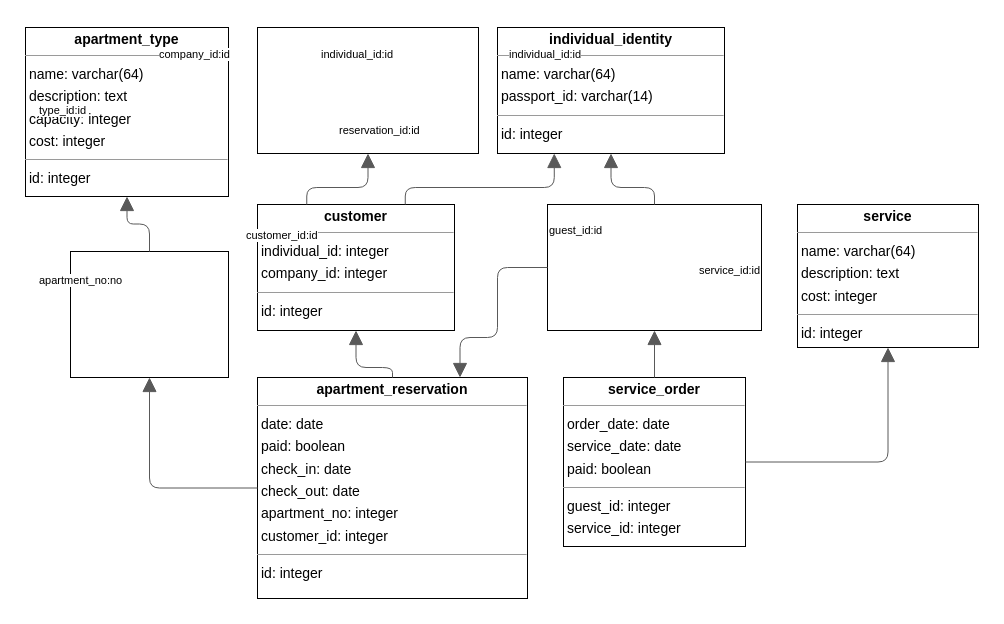
Image size: 1004x624. Some labels were removed from this diagram. The shapes that lost their labels are listed below. From the top down, each one's centre as x and y in pixels, then its label:
At [367,90]: "company_identity name: varchar(64) taxpayer_id: varchar(9) id: integer".
At [654,267]: "guest individual_id: integer reservation_id: integer id: integer".
At [149,314]: "apartment free: boolean type_id: integer no: integer".
